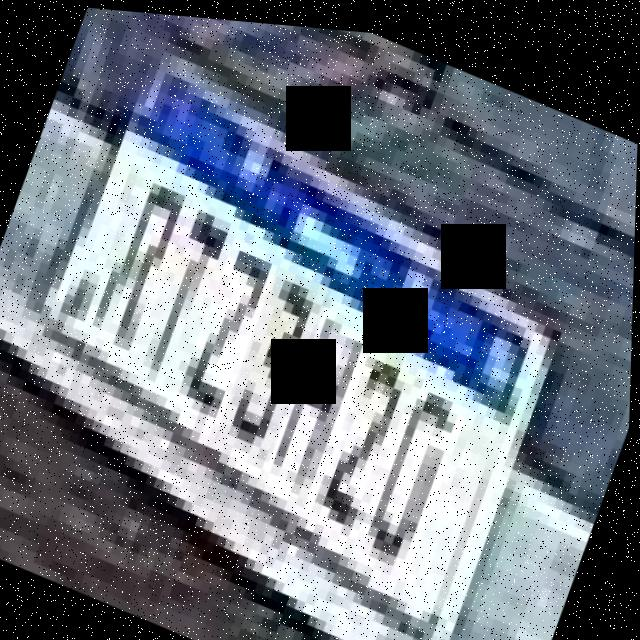0: (355, 361, 477, 571)
3: (216, 257, 334, 462)
H: (263, 296, 385, 505)
R: (87, 163, 196, 355)
T: (133, 197, 241, 389)
Z: (175, 229, 285, 426)
